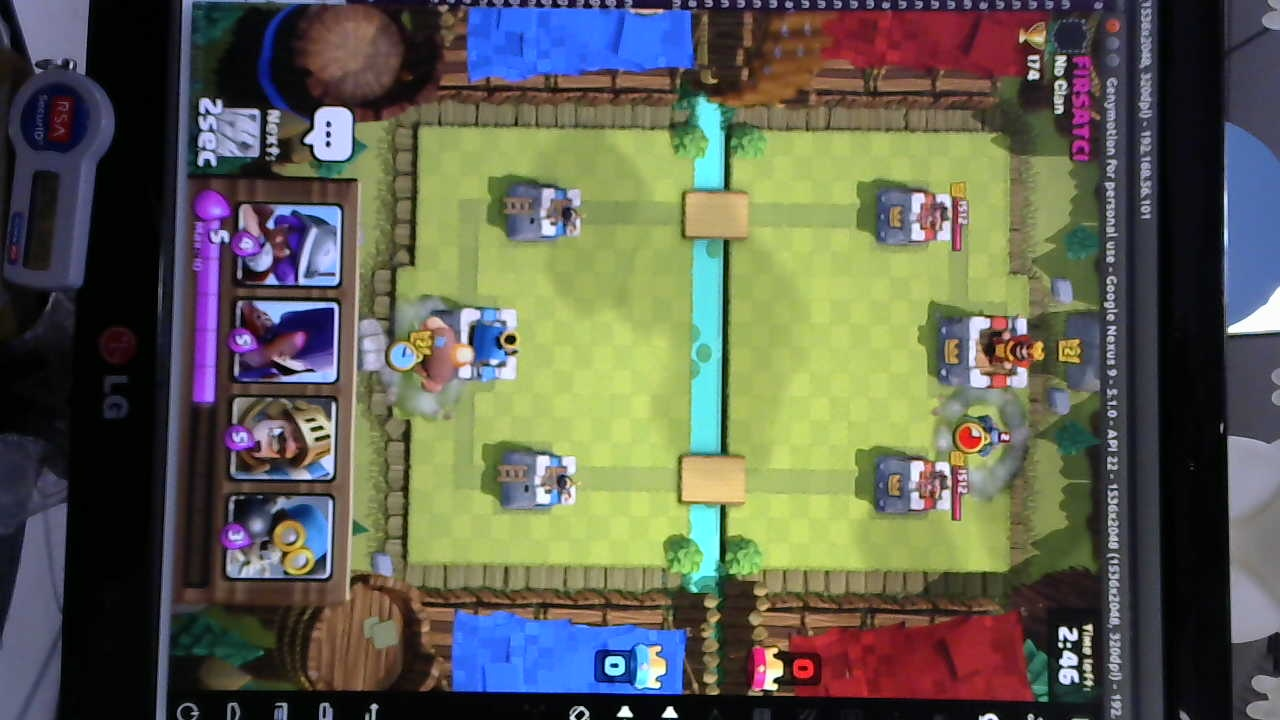giant: (387, 311, 473, 394)
minipekkaE: (953, 411, 1011, 457)
